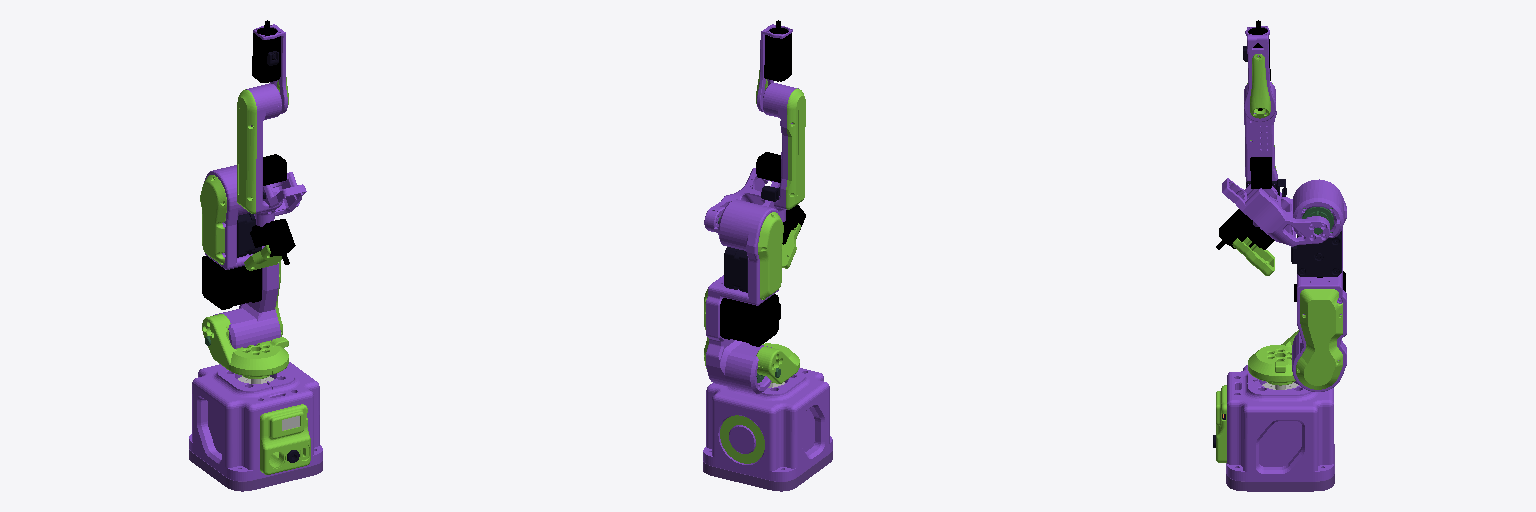
robot.urdf — 6dof:
<?xml version="1.0"?>
<!-- created with Phobos 1.0.1 "Capricious Choutengan" -->
  <robot name="6dof">

    <link name="link_1">
      <inertial>
        <origin xyz="0 0 0" rpy="0 0 0"/>
        <mass value="0.141"/>
        <inertia ixx="0.00012" ixy="0" ixz="0" iyy="2e-05" iyz="0" izz="2e-05"/>
      </inertial>
      <visual name="Main_Joint_1">
        <origin xyz="0 0 0" rpy="1.5708 0 0"/>
        <geometry>
          <mesh filename="package://test_pkg/meshes/dae/Main_Joint_1.dae" scale="1.0 1.0 1.0"/>
        </geometry>
        <material name="EVA01GreenLight"/>
      </visual>
      <collision name="Main_Joint_1">
        <origin xyz="0 0 0" rpy="1.5708 0 0"/>
        <geometry>
          <mesh filename="package://test_pkg/meshes/dae/Main_Joint_1.001.dae" scale="1.0 1.0 1.0"/>
        </geometry>
      </collision>
    </link>

    <link name="link_2_3">
      <inertial>
        <origin xyz="0 0 0" rpy="0 0 0"/>
        <mass value="0.327"/>
        <inertia ixx="0.001" ixy="0" ixz="0" iyy="0.001" iyz="0" izz="0.001"/>
      </inertial>
      <visual name="Main_CSF-8-30-1U_v2">
        <origin xyz="1e-05 0.146 0.02269" rpy="0 -1.5708 0"/>
        <geometry>
          <mesh filename="package://test_pkg/meshes/dae/Main_CSF-8-30-1U_v2.dae" scale="1.0 1.0 1.0"/>
        </geometry>
        <material name="EVA01GreenDark"/>
      </visual>
      <visual name="Main_CSF-8-30-1U_v2_1">
        <origin xyz="-1e-05 0 0.01996" rpy="0 -1.5708 0"/>
        <geometry>
          <mesh filename="package://test_pkg/meshes/dae/Main_CSF-8-30-1U_v2_1.dae" scale="1.0 1.0 1.0"/>
        </geometry>
        <material name="EVA01GreenDark"/>
      </visual>
      <visual name="Main_CaseJoint2_3">
        <origin xyz="0 0 0" rpy="0 -1.5708 0"/>
        <geometry>
          <mesh filename="package://test_pkg/meshes/dae/Main_CaseJoint2_3.dae" scale="1.0 1.0 1.0"/>
        </geometry>
        <material name="EVA01VioletLight"/>
      </visual>
      <visual name="Main_CaseOutside_1">
        <origin xyz="0.0018 0.12238 -0.00859" rpy="0 -1.5708 0"/>
        <geometry>
          <mesh filename="package://test_pkg/meshes/dae/Main_CaseOutside_1.dae" scale="1.0 1.0 1.0"/>
        </geometry>
        <material name="EVA01GreenLight"/>
      </visual>
      <visual name="Main_CaseOutside_2">
        <origin xyz="0.00263 0.0331 0.05514" rpy="0 -1.5708 0"/>
        <geometry>
          <mesh filename="package://test_pkg/meshes/dae/Main_CaseOutside_2.dae" scale="1.0 1.0 1.0"/>
        </geometry>
        <material name="EVA01GreenLight"/>
      </visual>
      <visual name="Main_Nema17_Slim">
        <origin xyz="0.00082 0.10757 0.01994" rpy="0 -1.5708 0"/>
        <geometry>
          <mesh filename="package://test_pkg/meshes/dae/Main_Nema17_Slim.dae" scale="1.0 1.0 1.0"/>
        </geometry>
        <material name="EVA01Purple"/>
      </visual>
      <visual name="Main_Nema17_StepperMotor">
        <origin xyz="0.00481 0.05535 0.01494" rpy="0 -1.5708 0"/>
        <geometry>
          <mesh filename="package://test_pkg/meshes/dae/Main_Nema17_StepperMotor.dae" scale="1.0 1.0 1.0"/>
        </geometry>
        <material name="EVA00Black"/>
      </visual>
      <collision name="Main_CaseJoint2_3">
        <origin xyz="0 0 0" rpy="0 -1.5708 0"/>
        <geometry>
          <mesh filename="package://test_pkg/meshes/dae/Main_CaseJoint2_3.001.dae" scale="1.0 1.0 1.0"/>
        </geometry>
      </collision>
    </link>

    <link name="link_4">
      <inertial>
        <origin xyz="0 0 0" rpy="0 0 0"/>
        <mass value="0.105"/>
        <inertia ixx="0.001" ixy="0" ixz="0" iyy="0.001" iyz="0" izz="0.001"/>
      </inertial>
      <visual name="Main_CSF-5-30-1U_v2">
        <!--origin xyz="-0.0223 0.05105 -0.03305" rpy="-1.55334 -1.55334 1.5708"/-->
        <origin xyz="-0.0223 0.05105 -0.03305" rpy="-2.3038 -1.55334 1.5708"/>
        <geometry>
          <mesh filename="package://test_pkg/meshes/dae/Main_CSF-5-30-1U_v2.dae" scale="1.0 1.0 1.0"/>
        </geometry>
        <material name="EVA00Black"/>
      </visual>
      <visual name="Main_CaseJoint4">
        <!--origin xyz="0 0 0" rpy="-1.55334 -1.55334 1.5708"/-->
        <origin xyz="0 0 0" rpy="-2.3038 -1.55334 1.5708"/>
        <geometry>
          <mesh filename="package://test_pkg/meshes/dae/Main_CaseJoint4.dae" scale="1.0 1.0 1.0"/>
        </geometry>
        <material name="EVA01VioletLight"/>
      </visual>
      <visual name="Main_CaseOutside_3">
        <!--origin xyz="-0.04394 0.05893 -0.03301" rpy="-1.55334 -1.55334 1.5708"/-->
        <origin xyz="-0.04394 0.05893 -0.03301" rpy="-2.3038 -1.55334 1.5708"/>
        <geometry>
          <mesh filename="package://test_pkg/meshes/dae/Main_CaseOutside_3.dae" scale="1.0 1.0 1.0"/>
        </geometry>
        <material name="EVA01GreenLight"/>
      </visual>
      <visual name="Main_PK513PA-H50S_v2">
        <!--origin xyz="-0.01762 0.07533 -0.03347" rpy="-1.55334 -1.55334 1.5708"/-->
        <origin xyz="-0.01762 0.07533 -0.03347" rpy="-2.3038 -1.55334 1.5708"/>
        <geometry>
          <mesh filename="package://test_pkg/meshes/dae/Main_PK513PA-H50S_v2.dae" scale="1.0 1.0 1.0"/>
        </geometry>
        <material name="EVA00Black"/>
      </visual>
      <collision name="Main_CaseJoint4">
        <!--origin xyz="0 0 0" rpy="-1.55334 -1.55334 1.5708"/-->
        <origin xyz="0 0 0" rpy="-2.3038 -1.55334 1.5708"/>
        <geometry>
          <mesh filename="package://test_pkg/meshes/dae/Main_CaseJoint4.001.dae" scale="1.0 1.0 1.0"/>
        </geometry>
      </collision>
    </link>

    <link name="link_5">
      <inertial>
        <origin xyz="0 0 0" rpy="0 0 0"/>
        <mass value="0.082"/>
        <inertia ixx="0.00101" ixy="0" ixz="0" iyy="0.00101" iyz="0" izz="0.00101"/>
      </inertial>
      <visual name="Main_CSF-5-30-1U_v2_1">
        <origin xyz="0.00259 0 0.127" rpy="0 3.14159 0"/>
        <geometry>
          <mesh filename="package://test_pkg/meshes/dae/Main_CSF-5-30-1U_v2_1.dae" scale="1.0 1.0 1.0"/>
        </geometry>
        <material name="EVA00Black"/>
      </visual>
      <visual name="Main_CaseJoint_5_1">
        <origin xyz="0 0 0" rpy="0 3.14159 0"/>
        <geometry>
          <mesh filename="package://test_pkg/meshes/dae/Main_CaseJoint_5_1.dae" scale="1.0 1.0 1.0"/>
        </geometry>
        <material name="EVA01VioletLight"/>
      </visual>
      <visual name="Main_CaseJoint_5_2">
        <origin xyz="0.0094 0.00049 0.09608" rpy="0 3.14159 0"/>
        <geometry>
          <mesh filename="package://test_pkg/meshes/dae/Main_CaseJoint_5_2.dae" scale="1.0 1.0 1.0"/>
        </geometry>
        <material name="EVA01VioletLight"/>
      </visual>
      <visual name="Main_CaseOutside_4">
        <origin xyz="0.02242 0.00045 0.07361" rpy="0 3.14159 0"/>
        <geometry>
          <mesh filename="package://test_pkg/meshes/dae/Main_CaseOutside_4.dae" scale="1.0 1.0 1.0"/>
        </geometry>
        <material name="EVA01GreenLight"/>
      </visual>
      <visual name="Main_ExtraPart2">
        <origin xyz="0.00534 -0.01233 0.03663" rpy="0 3.14159 0"/>
        <geometry>
          <mesh filename="package://test_pkg/meshes/dae/Main_ExtraPart2.dae" scale="1.0 1.0 1.0"/>
        </geometry>
        <material name="EVA01Purple"/>
      </visual>
      <visual name="Main_PK513PA-H50S_v2_1">
        <origin xyz="-0.00251 0 0.0549" rpy="0 3.14159 0"/>
        <geometry>
          <mesh filename="package://test_pkg/meshes/dae/Main_PK513PA-H50S_v2_1.dae" scale="1.0 1.0 1.0"/>
        </geometry>
        <material name="EVA00Black"/>
      </visual>
      <collision name="Main_CaseJoint_5_1">
        <origin xyz="0 0 0" rpy="0 3.14159 0"/>
        <geometry>
          <mesh filename="package://test_pkg/meshes/dae/Main_CaseJoint_5_1.001.dae" scale="1.0 1.0 1.0"/>
        </geometry>
      </collision>
      <collision name="Main_CaseJoint_5_2">
        <origin xyz="0.0094 0.00049 0.09608" rpy="0 3.14159 0"/>
        <geometry>
          <mesh filename="package://test_pkg/meshes/dae/Main_CaseJoint_5_2.001.dae" scale="1.0 1.0 1.0"/>
        </geometry>
      </collision>
    </link>

    <link name="link_6">
      <inertial>
        <origin xyz="0 0 0" rpy="0 0 0"/>
        <mass value="0.018"/>
        <inertia ixx="2e-05" ixy="0" ixz="0" iyy="2e-05" iyz="0" izz="2e-05"/>
      </inertial>
      <visual name="Main_CaseJoint_6">
        <origin xyz="0 0 0" rpy="0 -1.5708 0"/>
        <geometry>
          <mesh filename="package://test_pkg/meshes/dae/Main_CaseJoint_6.dae" scale="1.0 1.0 1.0"/>
        </geometry>
        <material name="EVA01VioletLight"/>
      </visual>
      <visual name="Main_CaseOutside_5">
        <origin xyz="0.01892 8e-05 0.01025" rpy="0 -1.5708 0"/>
        <geometry>
          <mesh filename="package://test_pkg/meshes/dae/Main_CaseOutside_5.dae" scale="1.0 1.0 1.0"/>
        </geometry>
        <material name="EVA01GreenLight"/>
      </visual>
      <visual name="Main_ExtraPart3">
        <origin xyz="0.04831 0.01225 -0.0068" rpy="0 -1.5708 0"/>
        <geometry>
          <mesh filename="package://test_pkg/meshes/dae/Main_ExtraPart3.dae" scale="1.0 1.0 1.0"/>
        </geometry>
        <material name="EVA01Purple"/>
      </visual>
      <visual name="Main_PK513PA-H50S_v1">
        <origin xyz="0.04794 0 -0.0068" rpy="0 -1.5708 0"/>
        <geometry>
          <mesh filename="package://test_pkg/meshes/dae/Main_PK513PA-H50S_v1.dae" scale="1.0 1.0 1.0"/>
        </geometry>
        <material name="EVA00Black"/>
      </visual>
      <visual name="Main_SH03W_KORP">
        <origin xyz="0.05151 0.01281 -0.00673" rpy="0 -1.5708 0"/>
        <geometry>
          <mesh filename="package://test_pkg/meshes/dae/Main_SH03W_KORP.dae" scale="1.0 1.0 1.0"/>
        </geometry>
        <material name="EVA01Purple"/>
      </visual>
      <visual name="Main_SHXX_PIN_5">
        <origin xyz="0.05065 0.01272 -0.00623" rpy="0 -1.5708 0"/>
        <geometry>
          <mesh filename="package://test_pkg/meshes/dae/Main_SHXX_PIN_5.dae" scale="1.0 1.0 1.0"/>
        </geometry>
        <material name="EVA02Orange"/>
      </visual>
      <visual name="Main_SHXX_PIN_6">
        <origin xyz="0.05065 0.01272 -0.00723" rpy="0 -1.5708 0"/>
        <geometry>
          <mesh filename="package://test_pkg/meshes/dae/Main_SHXX_PIN_6.dae" scale="1.0 1.0 1.0"/>
        </geometry>
        <material name="EVA02Orange"/>
      </visual>
      <collision name="Main_CaseJoint_6">
        <origin xyz="0 0 0" rpy="0 -1.5708 0"/>
        <geometry>
          <mesh filename="package://test_pkg/meshes/dae/Main_CaseJoint_6.001.dae" scale="1.0 1.0 1.0"/>
        </geometry>
      </collision>
    </link>

    <link name="link_gripper">
      <inertial>
        <origin xyz="0 0 0" rpy="0 0 0"/>
        <mass value="0.004"/>
        <inertia ixx="2e-05" ixy="0" ixz="0" iyy="2e-05" iyz="0" izz="2e-05"/>
      </inertial>
      <visual name="Gripper">
        <origin xyz="0 0 0" rpy="0 0 0"/>
        <geometry>
          <mesh filename="package://test_pkg/meshes/dae/Gripper.dae" scale="0.25 0.25 0.25"/>
        </geometry>
        <material name="EVA02Orange"/>
      </visual>
      <collision name="Gripper">
        <origin xyz="-0.00013 -0.00015 0.01246" rpy="0 0 0"/>
        <geometry>
          <box size="0.0125 0.01234 0.02512"/>
        </geometry>
      </collision>
    </link>

    <link name="root">
      <inertial>
        <origin xyz="0 0 0" rpy="0 0 0"/>
        <mass value="0.911"/>
        <inertia ixx="0.00268" ixy="0" ixz="0" iyy="2e-05" iyz="0" izz="2e-05"/>
      </inertial>
      <visual name="Main_Base">
        <origin xyz="0 0 0" rpy="1.5708 0 0"/>
        <geometry>
          <mesh filename="package://test_pkg/meshes/dae/Main_Base.dae" scale="1.0 1.0 1.0"/>
        </geometry>
        <material name="EVA01VioletLight"/>
      </visual>
      <visual name="Main_BotonLED">
        <origin xyz="-0.01182 -0.0515 -0.01961" rpy="1.5708 0 0"/>
        <geometry>
          <mesh filename="package://test_pkg/meshes/dae/Main_BotonLED.dae" scale="1.0 1.0 1.0"/>
        </geometry>
        <material name="Default"/>
      </visual>
      <visual name="Main_CRK543AP-H50">
        <origin xyz="0 -0.00319 -0.00114" rpy="1.5708 0 0"/>
        <geometry>
          <mesh filename="package://test_pkg/meshes/dae/Main_CRK543AP-H50.dae" scale="1.0 1.0 1.0"/>
        </geometry>
        <material name="Default"/>
      </visual>
      <visual name="Main_CaseButtons">
        <origin xyz="-0.00219 -0.05152 -0.0145" rpy="1.5708 0 0"/>
        <geometry>
          <mesh filename="package://test_pkg/meshes/dae/Main_CaseButtons.dae" scale="1.0 1.0 1.0"/>
        </geometry>
        <material name="EVA01GreenLight"/>
      </visual>
      <visual name="Main_ExtraPart1">
        <origin xyz="0 0.04315 -0.00422" rpy="1.5708 0 0"/>
        <geometry>
          <mesh filename="package://test_pkg/meshes/dae/Main_ExtraPart1.dae" scale="1.0 1.0 1.0"/>
        </geometry>
        <material name="EVA01GreenLight"/>
      </visual>
      <visual name="Main_SH05W_KORP">
        <origin xyz="0.02029 -0.05516 0.0145" rpy="1.5708 0 0"/>
        <geometry>
          <mesh filename="package://test_pkg/meshes/dae/Main_SH05W_KORP.dae" scale="1.0 1.0 1.0"/>
        </geometry>
        <material name="EVA01Purple"/>
      </visual>
      <visual name="Main_SHXX_PIN">
        <origin xyz="0.01952 -0.05506 0.0125" rpy="1.5708 0 0"/>
        <geometry>
          <mesh filename="package://test_pkg/meshes/dae/Main_SHXX_PIN.dae" scale="1.0 1.0 1.0"/>
        </geometry>
        <material name="EVA02Orange"/>
      </visual>
      <visual name="Main_SHXX_PIN_1">
        <origin xyz="0.01952 -0.05506 0.0135" rpy="1.5708 0 0"/>
        <geometry>
          <mesh filename="package://test_pkg/meshes/dae/Main_SHXX_PIN_1.dae" scale="1.0 1.0 1.0"/>
        </geometry>
        <material name="EVA02Orange"/>
      </visual>
      <visual name="Main_SHXX_PIN_2">
        <origin xyz="0.01952 -0.05506 0.0145" rpy="1.5708 0 0"/>
        <geometry>
          <mesh filename="package://test_pkg/meshes/dae/Main_SHXX_PIN_2.dae" scale="1.0 1.0 1.0"/>
        </geometry>
        <material name="EVA02Orange"/>
      </visual>
      <visual name="Main_SHXX_PIN_3">
        <origin xyz="0.01952 -0.05506 0.0155" rpy="1.5708 0 0"/>
        <geometry>
          <mesh filename="package://test_pkg/meshes/dae/Main_SHXX_PIN_3.dae" scale="1.0 1.0 1.0"/>
        </geometry>
        <material name="EVA02Orange"/>
      </visual>
      <visual name="Main_SHXX_PIN_4">
        <origin xyz="0.01952 -0.05506 0.0165" rpy="1.5708 0 0"/>
        <geometry>
          <mesh filename="package://test_pkg/meshes/dae/Main_SHXX_PIN_4.dae" scale="1.0 1.0 1.0"/>
        </geometry>
        <material name="EVA02Orange"/>
      </visual>
      <visual name="Main_Screen">
        <origin xyz="0.00144 -0.0611 0.01422" rpy="1.5708 0 0"/>
        <geometry>
          <mesh filename="package://test_pkg/meshes/dae/Main_Screen.dae" scale="1.0 1.0 1.0"/>
        </geometry>
        <material name="Default"/>
      </visual>
      <visual name="Main_Socket_2">
        <origin xyz="0.01804 -0.05643 -0.01953" rpy="1.5708 0 0"/>
        <geometry>
          <mesh filename="package://test_pkg/meshes/dae/Main_Socket_2.dae" scale="1.0 1.0 1.0"/>
        </geometry>
        <material name="EVA01Purple"/>
      </visual>
      <visual name="Main_Socket_5V">
        <origin xyz="0.00464 -0.06078 -0.0195" rpy="1.5708 0 0"/>
        <geometry>
          <mesh filename="package://test_pkg/meshes/dae/Main_Socket_5V.dae" scale="1.0 1.0 1.0"/>
        </geometry>
        <material name="EVA01Purple"/>
      </visual>
      <visual name="Main_Soporte">
        <origin xyz="0 -0.00016 -0.04472" rpy="1.5708 0 0"/>
        <geometry>
          <mesh filename="package://test_pkg/meshes/dae/Main_Soporte.dae" scale="1.0 1.0 1.0"/>
        </geometry>
        <material name="EVA01VioletDark"/>
      </visual>
      <collision name="Main_Base">
        <origin xyz="0 -0.00275 0.00128" rpy="1.5708 0 0"/>
        <geometry>
          <mesh filename="package://test_pkg/meshes/dae/Main_Base.001.dae" scale="1.0 1.0 1.0"/>
        </geometry>
      </collision>
    </link>

    <joint name="link_1" type="revolute">
      <origin xyz="0 -0.00275 0.0423" rpy="0 0 0"/>
      <parent link="root"/>
      <child link="link_1"/>
      <axis xyz="0 0 1.0"/>
      <limit lower="-3.14159" upper="3.14159" effort="3.5" velocity="52.35988"/>
    </joint>

    <joint name="link_2_3" type="revolute">
      <origin xyz="-0.0175 0.035 0.02548" rpy="1.5708 0 1.5708"/>
      <parent link="link_1"/>
      <child link="link_2_3"/>
      <axis xyz="0 0 1.0"/>
      <limit lower="-1.5708" upper="1.29154" effort="0.3" velocity="34.90659"/>
    </joint>

    <joint name="link_4" type="revolute">
      <origin xyz="0 0.146 0.04965" rpy="0.01745 0 1.5708"/>
      <parent link="link_2_3"/>
      <child link="link_4"/>
      <axis xyz="0 0 1.0"/>
      <limit lower="0.73304" upper="-1.5708" effort="0.17" velocity="26.17994"/>
    </joint>

    <joint name="link_5" type="revolute">
      <origin xyz="-0.01291 0.05121 -0.03305" rpy="1.55331 1.58825 1.57077"/>
      <parent link="link_4"/>
      <child link="link_5"/>
      <axis xyz="0 0 1.0"/>
      <limit lower="-3.14159" upper="3.14159" effort="0.4" velocity="2.61799"/>
    </joint>

    <joint name="link_6" type="revolute">
      <origin xyz="-0.0068 0 0.127" rpy="0 -1.5708 0"/>
      <parent link="link_5"/>
      <child link="link_6"/>
      <axis xyz="0 0 1.0"/>
      <limit lower="-2.35619" upper="2.35619" effort="0.4" velocity="2.61799"/>
    </joint>

    <joint name="link_gripper" type="revolute">
      <origin xyz="0.077 0 -0.0068" rpy="0 1.5708 0"/>
      <parent link="link_6"/>
      <child link="link_gripper"/>
      <axis xyz="0 0 1.0"/>
      <limit lower="-3.14159" upper="3.14159" effort="0.4" velocity="78.53982"/>
    </joint>

    <material name="Default">
      <color rgba="0.74902 0.74902 0.74902 1.0"/>
    </material>

    <material name="EVA00Black">
      <color rgba="0 0 0 1.0"/>
    </material>

    <material name="EVA01GreenDark">
      <color rgba="0.24706 0.42745 0.30588 1.0"/>
    </material>

    <material name="EVA01GreenLight">
      <color rgba="0.5451 0.83137 0.31372 1.0"/>
    </material>

    <material name="EVA01Purple">
      <color rgba="0.11372 0.10196 0.18431 1.0"/>
    </material>

    <material name="EVA01VioletDark">
      <color rgba="0.45098 0.3098 0.60392 1.0"/>
    </material>

    <material name="EVA01VioletLight">
      <color rgba="0.58824 0.37255 0.83137 1.0"/>
    </material>

    <material name="EVA02Orange">
      <color rgba="0.97647 0.61569 0.32157 1.0"/>
    </material>

  </robot>

--- Facts derived from the render (not from the file) ---
The picture shows the robot from 3 angles, left to right: view 1: azimuth 30°, elevation 25°; view 2: azimuth 150°, elevation 25°; view 3: azimuth 270°, elevation 25°; orthographic projection.
Robot: 6dof — 7 links, 6 joints (6 revolute); root link root; default pose: all joints at 0.
Links seen in each view (by area): view 1: root, link_2_3, link_5, link_1, link_4, link_6; view 2: root, link_2_3, link_5, link_4, link_6, link_1; view 3: root, link_2_3, link_4, link_6, link_5, link_1.
Link boxes in pixels (x1=…): root: x1=189, y1=362, x2=322, y2=491; link_2_3: x1=200, y1=165, x2=282, y2=348; link_5: x1=237, y1=83, x2=286, y2=226; link_1: x1=202, y1=314, x2=288, y2=378; link_4: x1=244, y1=172, x2=306, y2=270; link_6: x1=252, y1=20, x2=288, y2=113; root: x1=703, y1=368, x2=832, y2=491; link_2_3: x1=704, y1=199, x2=783, y2=393; link_5: x1=756, y1=83, x2=805, y2=221; link_4: x1=704, y1=168, x2=805, y2=268; link_6: x1=756, y1=20, x2=792, y2=111; link_1: x1=756, y1=343, x2=799, y2=383; root: x1=1213, y1=365, x2=1334, y2=491; link_2_3: x1=1291, y1=179, x2=1346, y2=391; link_4: x1=1216, y1=178, x2=1329, y2=275; link_6: x1=1243, y1=20, x2=1275, y2=121; link_5: x1=1244, y1=82, x2=1286, y2=226; link_1: x1=1248, y1=330, x2=1298, y2=385.
Size in the robot's own frame: 0.101 by 0.1248 by 0.4596 metres.
Meshes: 41 distinct files referenced, 38 mesh visuals loaded (38 Collada DAE); not drawn: 3 (reference not matched to a file when rendering).